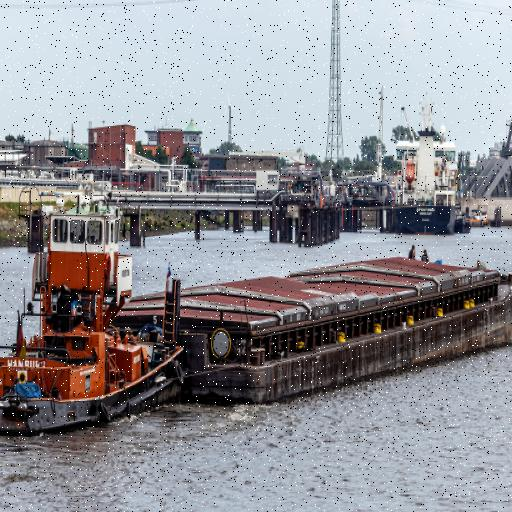tugboat: (1, 185, 191, 449)
